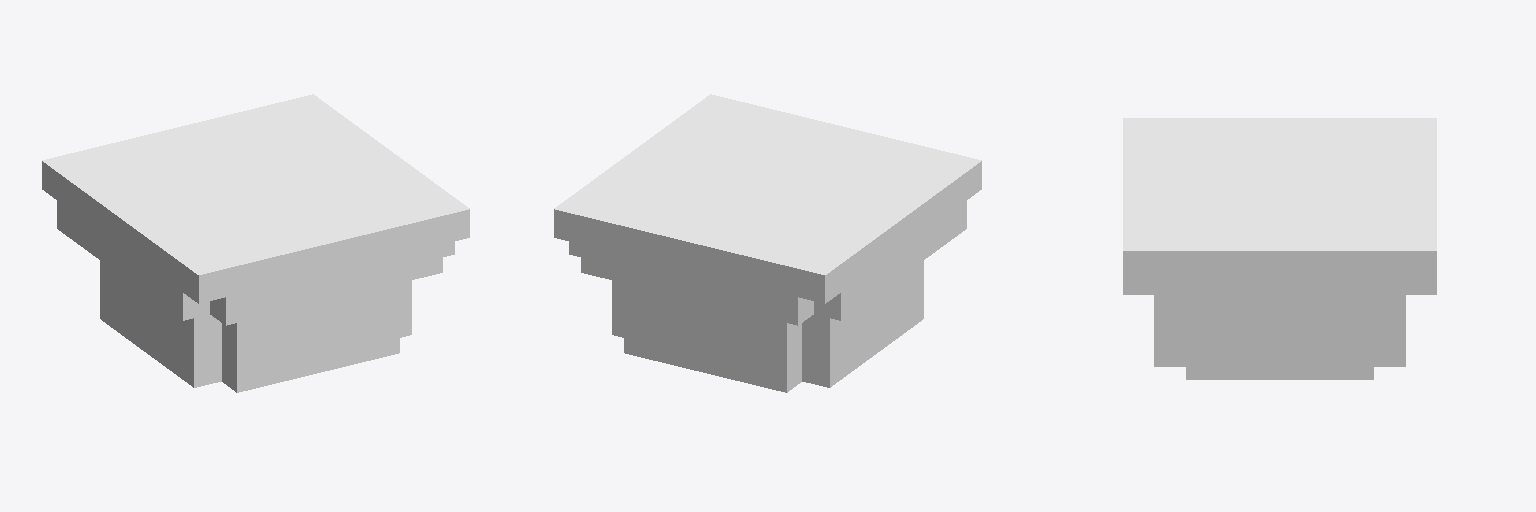
The model's file is wall_pillar_top.obj.
3 renders of one model, left to right at view 1: azimuth 30°, elevation 25°; view 2: azimuth 150°, elevation 25°; view 3: azimuth 270°, elevation 25°, orthographic.
Visible parts, largest first — view 1: object 1; view 2: object 1; view 3: object 1.
Part boxes in pixels (left/top/right/bottom): object 1: left=42, top=94, right=469, bottom=392; object 1: left=554, top=94, right=981, bottom=392; object 1: left=1123, top=118, right=1436, bottom=379.
Size of the model in its own units: 1 by 0.5 by 1.